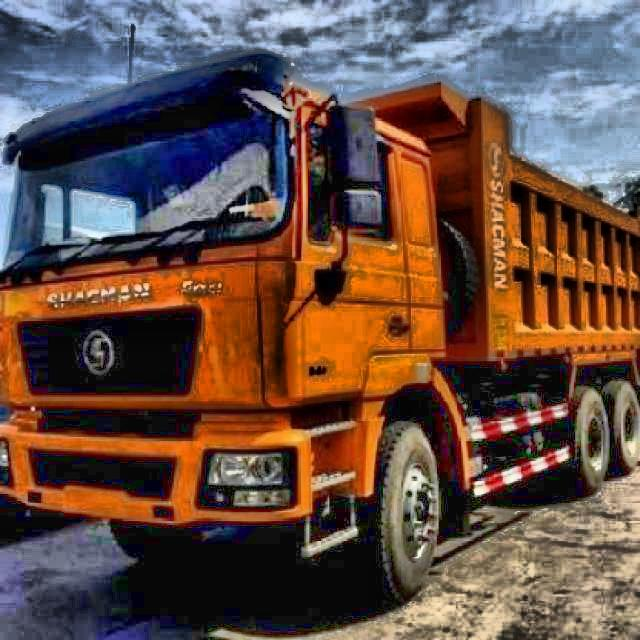dump_truck: (0, 46, 640, 604)
